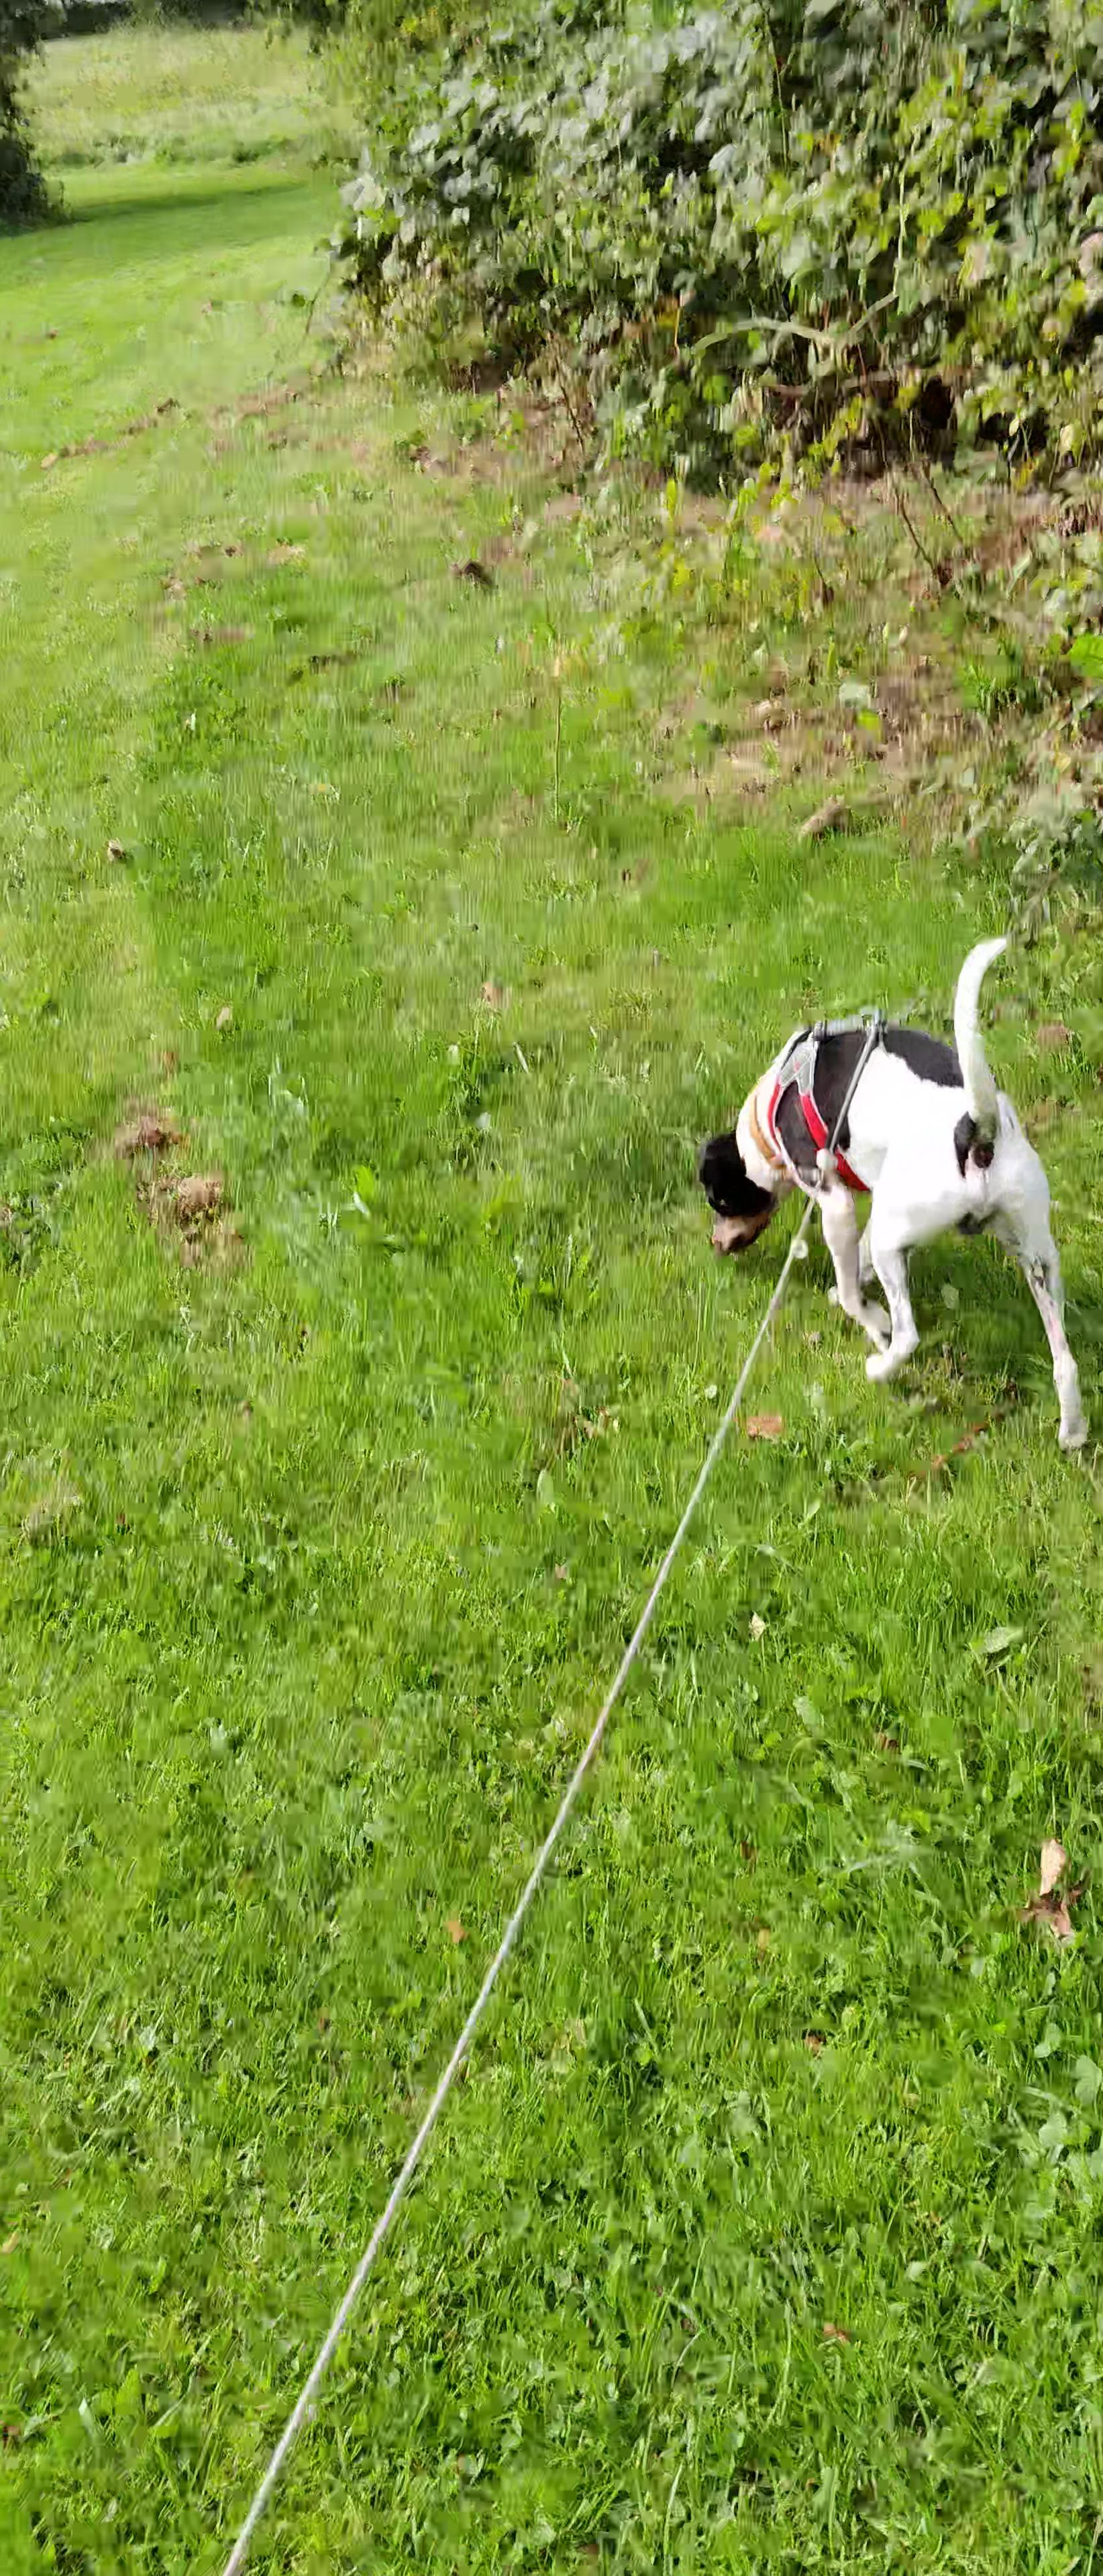Dog: (694, 928, 1091, 1456)
